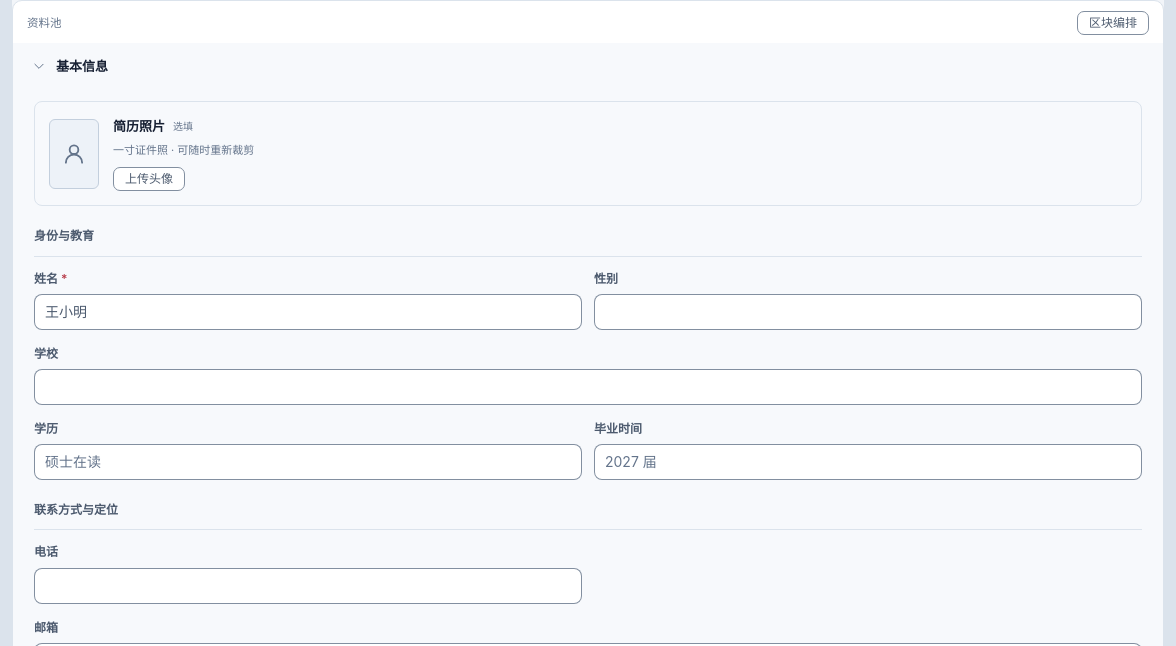
Test: ProfileEditor › 开启编排：七行区块，基本信息在首位且无 grip
Click the button "区块编排". click: [1113, 23]
box: [1077,11,1149,35]
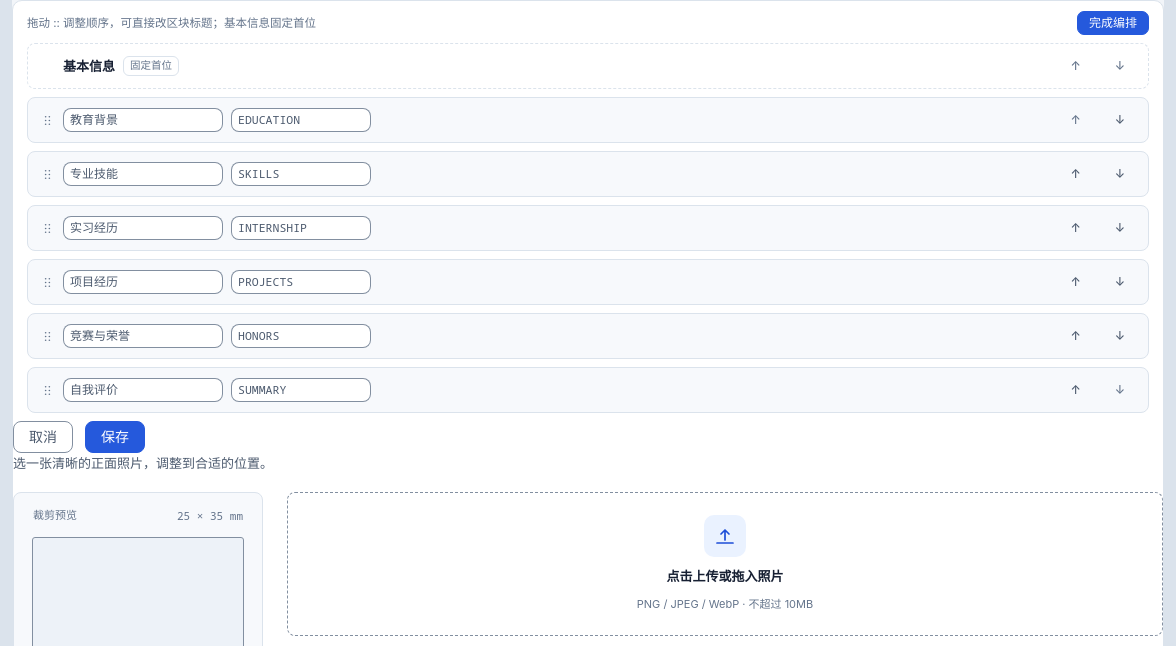
Check: the number of elements with class "section-row" is 7
Check: the element with class "section-row" shows "基本信息", box [63,58,115,74]
Check: the 1st icon with class "grip" is shown, box [40,112,55,128]
